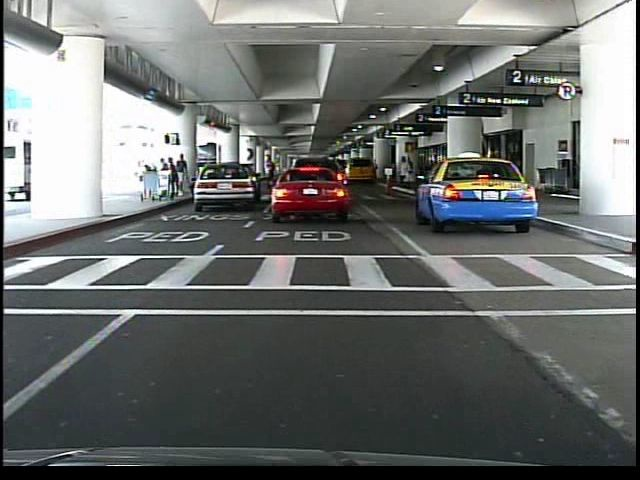person: (332, 156, 345, 202), (179, 154, 192, 199), (398, 157, 411, 192), (316, 166, 327, 202), (267, 157, 279, 188), (411, 156, 412, 191)
